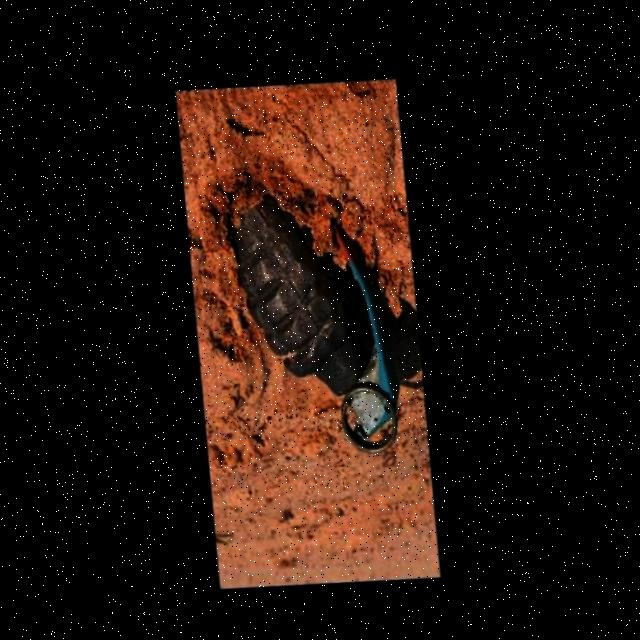grenade: (205, 152, 411, 477)
